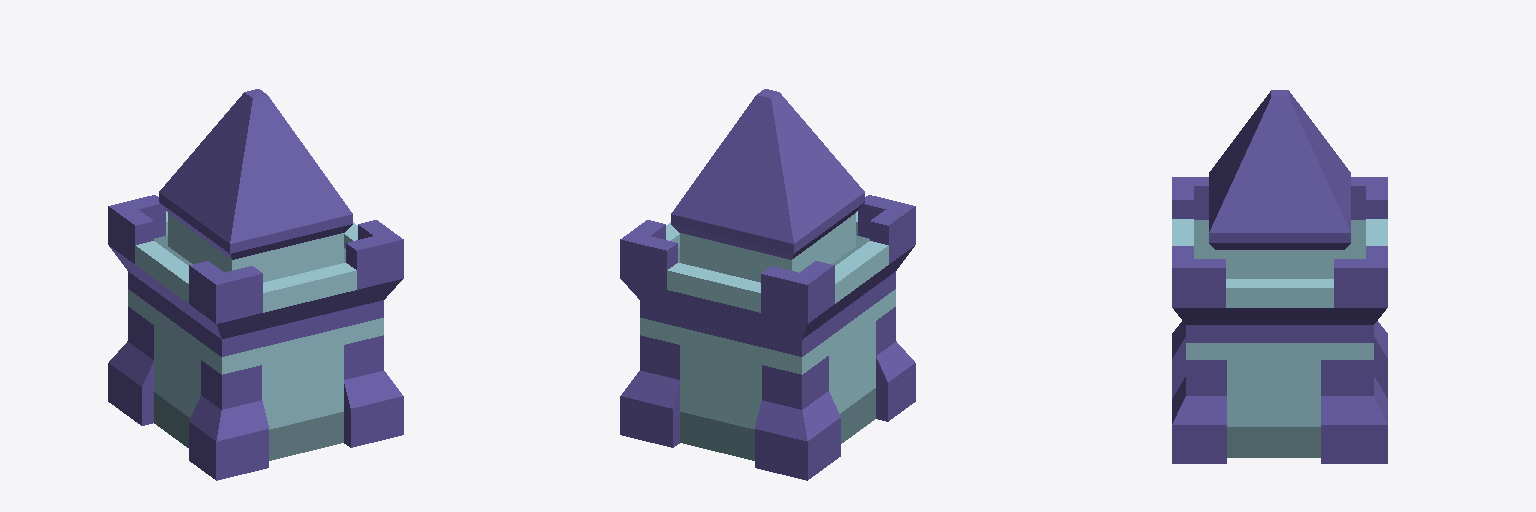
The model's file is tile_tower_squareB.obj.
3 renders of one model, left to right at view 1: azimuth 30°, elevation 25°; view 2: azimuth 150°, elevation 25°; view 3: azimuth 270°, elevation 25°, orthographic.
Visible parts, largest first — view 1: towerSquare_sampleB; view 2: towerSquare_sampleB; view 3: towerSquare_sampleB.
Part boxes in pixels (bbox=[...]): towerSquare_sampleB: bbox=[108, 89, 403, 480]; towerSquare_sampleB: bbox=[620, 89, 915, 480]; towerSquare_sampleB: bbox=[1172, 90, 1387, 463].
Bounding box in the file's own units: 1 × 1.66 × 1.